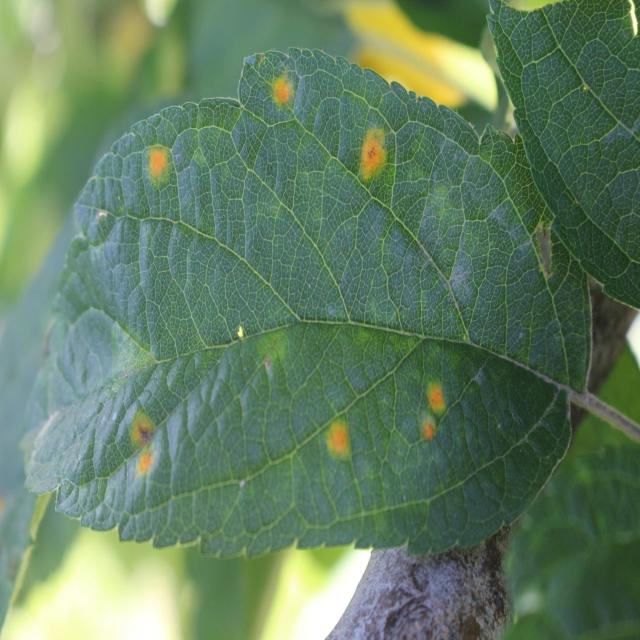Rust: (119, 407, 170, 492), (132, 128, 186, 204), (352, 108, 394, 194), (262, 64, 314, 124), (415, 361, 446, 457), (323, 394, 354, 487)
